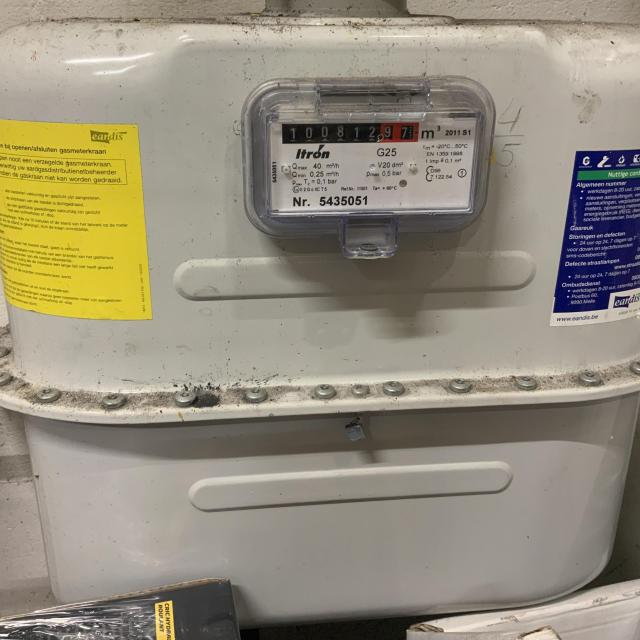gaz_meter: (269, 110, 476, 216)
indication: (282, 122, 420, 144)
